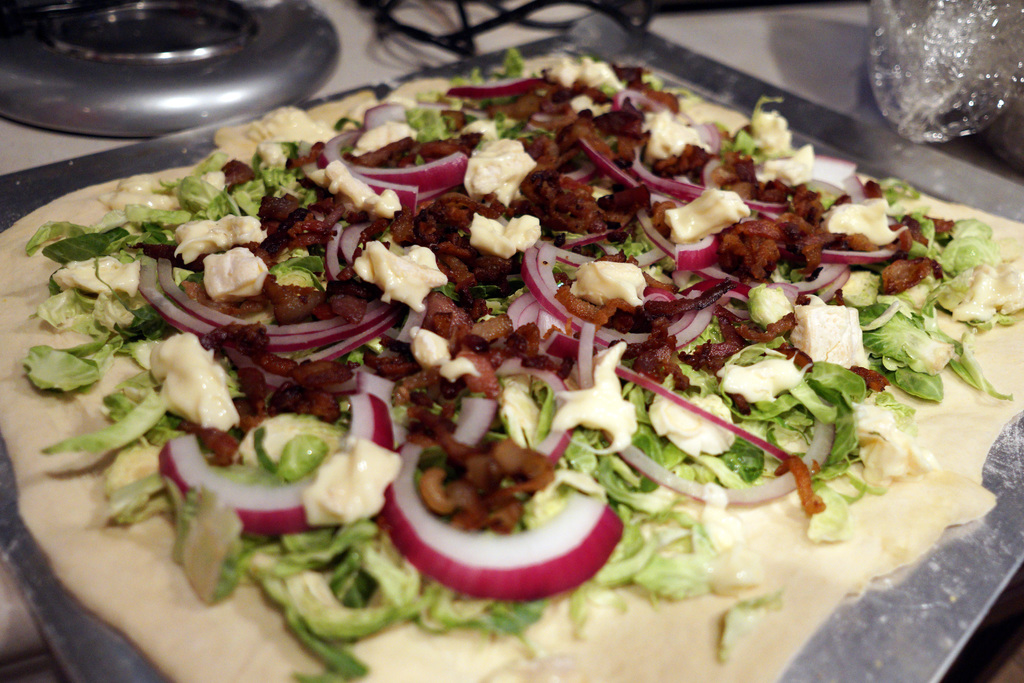Pizza: (0, 53, 1023, 682)
